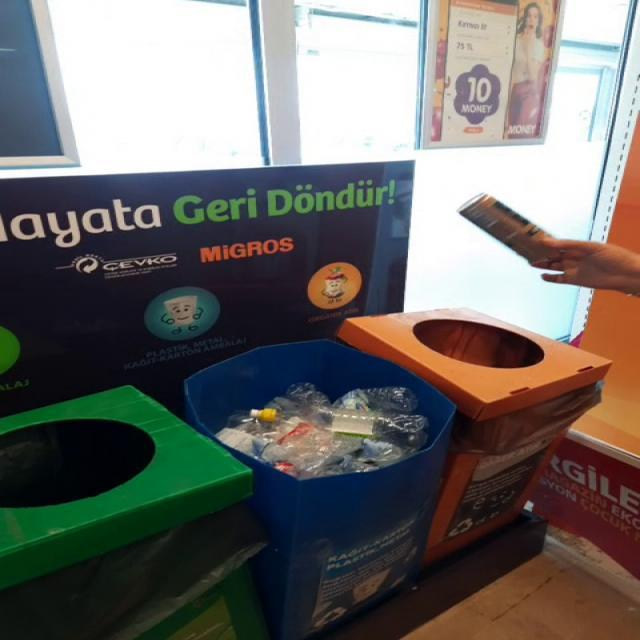Bin: (1, 309, 608, 640)
Metal: (460, 194, 556, 264)
